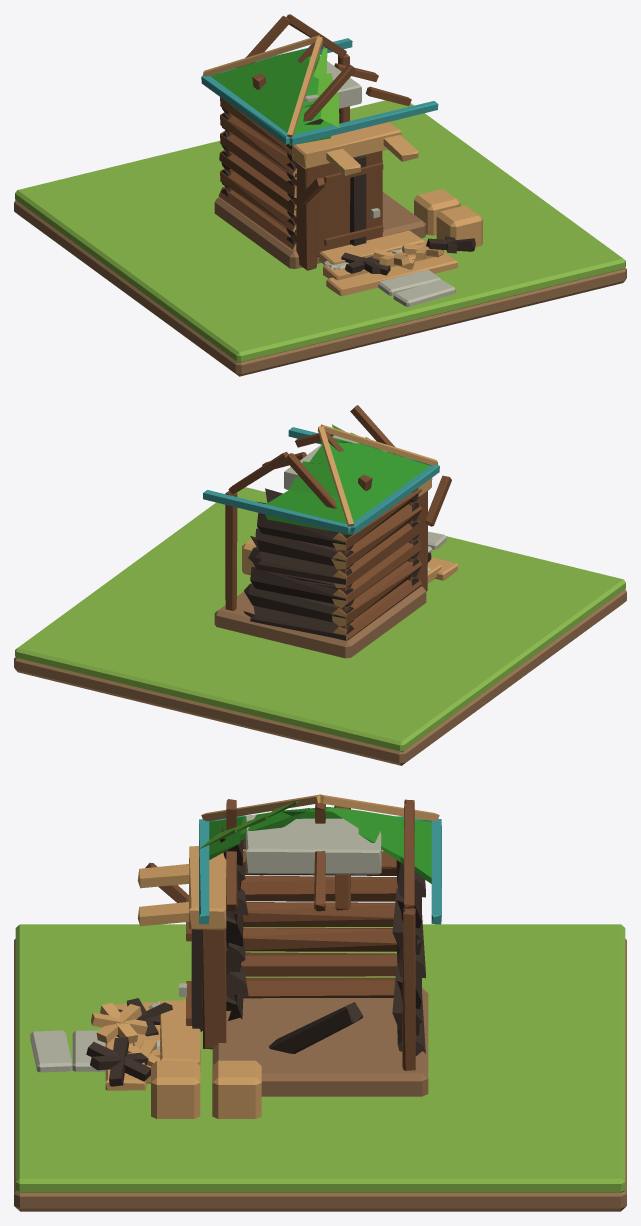
File: town_hall_l01_damaged_LOD1.glb
3 views of the same model, one above another, from view 1: azimuth 30°, elevation 25°; view 2: azimuth 150°, elevation 25°; view 3: azimuth 270°, elevation 25° (orthographic). The views are drawn at different scales.
Visible parts, largest first — view 1: town_hall_l01_damaged_grass_tile.001, town_hall_l01_damaged_foundation.001, town_hall_l01_damaged_earth_tile.001, town_hall_l01_damaged_path_stone.005, town_hall_l01_damaged_path_stone.004; view 2: town_hall_l01_damaged_grass_tile.001, town_hall_l01_damaged_foundation.001, town_hall_l01_damaged_earth_tile.001; view 3: town_hall_l01_damaged_grass_tile.001, town_hall_l01_damaged_foundation.001, town_hall_l01_damaged_earth_tile.001, town_hall_l01_damaged_path_stone.005, town_hall_l01_damaged_path_stone.004.
Boxes of the visible parts, <box> form: town_hall_l01_damaged_grass_tile.001: <box>15,100,625,362</box>; town_hall_l01_damaged_foundation.001: <box>201,14,482,296</box>; town_hall_l01_damaged_earth_tile.001: <box>14,200,626,376</box>; town_hall_l01_damaged_path_stone.005: <box>393,279,455,306</box>; town_hall_l01_damaged_path_stone.004: <box>378,269,440,295</box>; town_hall_l01_damaged_grass_tile.001: <box>15,487,625,751</box>; town_hall_l01_damaged_foundation.001: <box>203,405,457,658</box>; town_hall_l01_damaged_earth_tile.001: <box>14,589,626,765</box>; town_hall_l01_damaged_grass_tile.001: <box>15,924,625,1192</box>; town_hall_l01_damaged_foundation.001: <box>86,794,441,1118</box>; town_hall_l01_damaged_earth_tile.001: <box>14,939,626,1211</box>; town_hall_l01_damaged_path_stone.005: <box>30,1030,72,1072</box>; town_hall_l01_damaged_path_stone.004: <box>72,1030,105,1071</box>.
Size of the model in its own units: 3.6 by 1.87 by 3.6.
